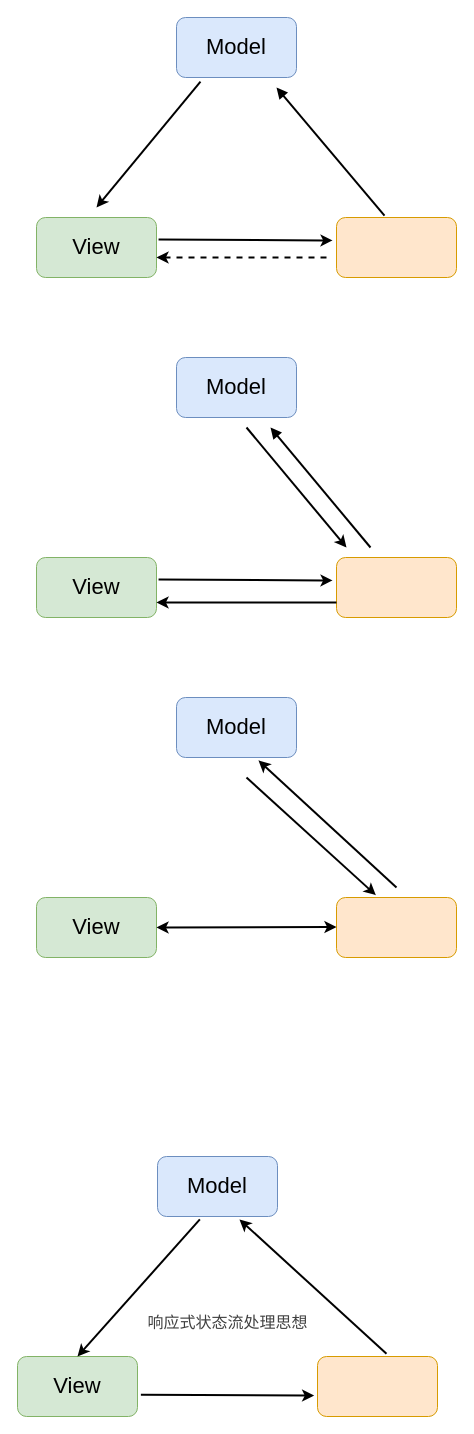
Image size: 474x1434. Some labels were removed from this diagram. Each missing label, with the centre of its shape:
Controller: pixel 396 247
Intent: pixel 377 1386
Presenter: pixel 396 587
ViewModel: pixel 396 927
